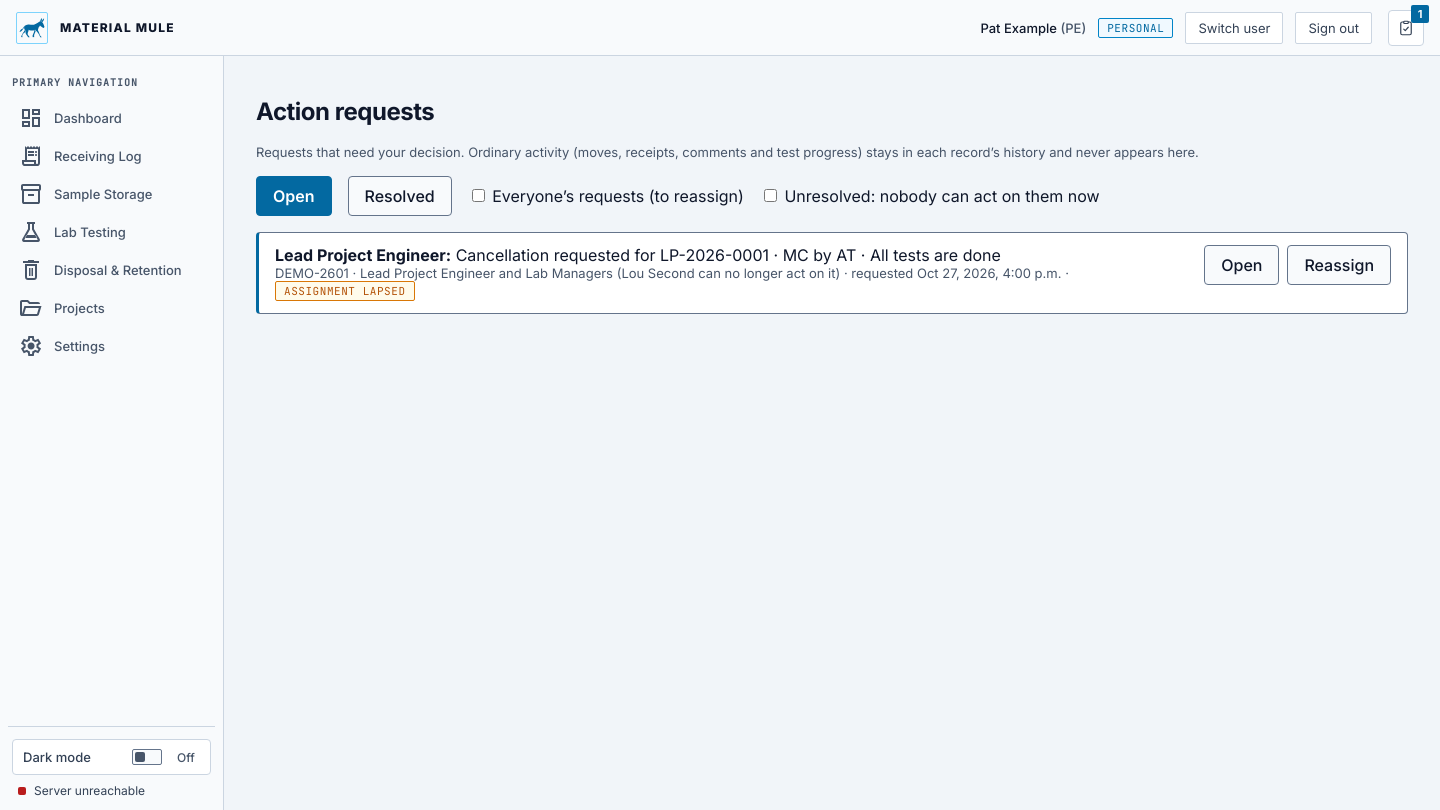
Action requests (MM-T27) › MM-AO07: Lab Managers see lapsed assignments and the unresolved queue
Check: the list item "Cancellation requested" shows "Lou Second can no longer act on it", box [360, 265, 840, 281]
Check: the text "Assignment lapsed" is shown, box [275, 281, 415, 301]
Click the checkbox labelled "Unresolved: nobody can act on them now" at (770, 196), box [764, 189, 777, 202]
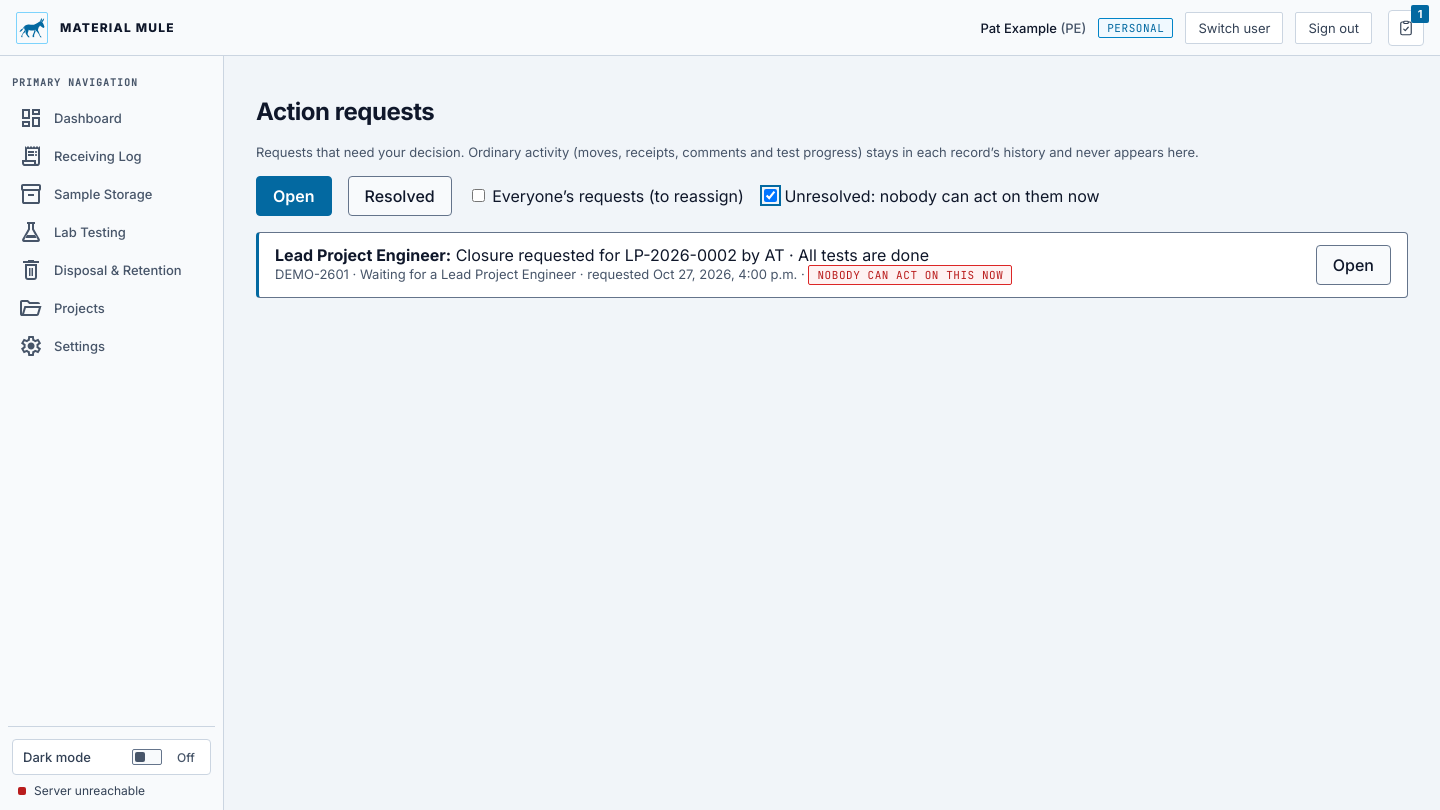
Check: the list item "Closure requested" shows "Waiting for a Lead Project Engineer", box [360, 266, 576, 282]
Check: the text "Nobody can act on this now" is shown, box [808, 265, 1012, 285]
